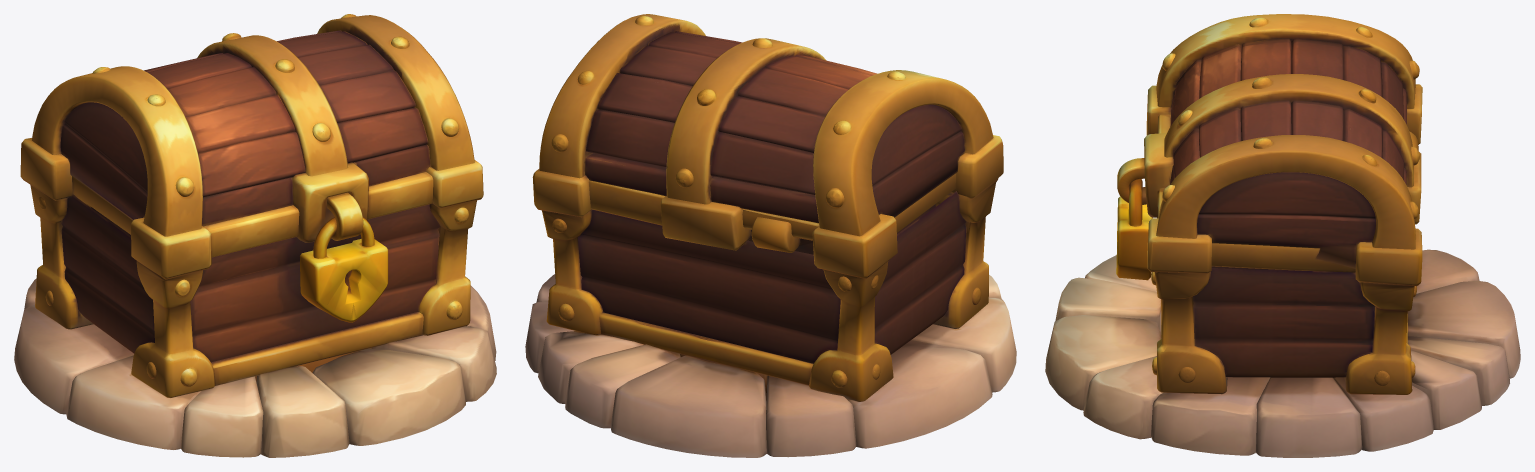
The model's file is keep_chest.glb.
The picture shows the model from 3 angles, left to right: view 1: azimuth 30°, elevation 25°; view 2: azimuth 150°, elevation 25°; view 3: azimuth 270°, elevation 25°; orthographic projection. The views are drawn at different scales.
Visible parts, largest first — view 1: tripo_node_1b334f4b-c34a-4873-a724-29a78f5fd2d7; view 2: tripo_node_1b334f4b-c34a-4873-a724-29a78f5fd2d7; view 3: tripo_node_1b334f4b-c34a-4873-a724-29a78f5fd2d7.
Boxes of the visible parts, <box> form: tripo_node_1b334f4b-c34a-4873-a724-29a78f5fd2d7: <box>14,14,496,457</box>; tripo_node_1b334f4b-c34a-4873-a724-29a78f5fd2d7: <box>525,14,1016,457</box>; tripo_node_1b334f4b-c34a-4873-a724-29a78f5fd2d7: <box>1045,14,1520,457</box>.
Bounding box in the file's own units: 0.9839 × 0.6821 × 0.9995.
1 material, 1 textured.
